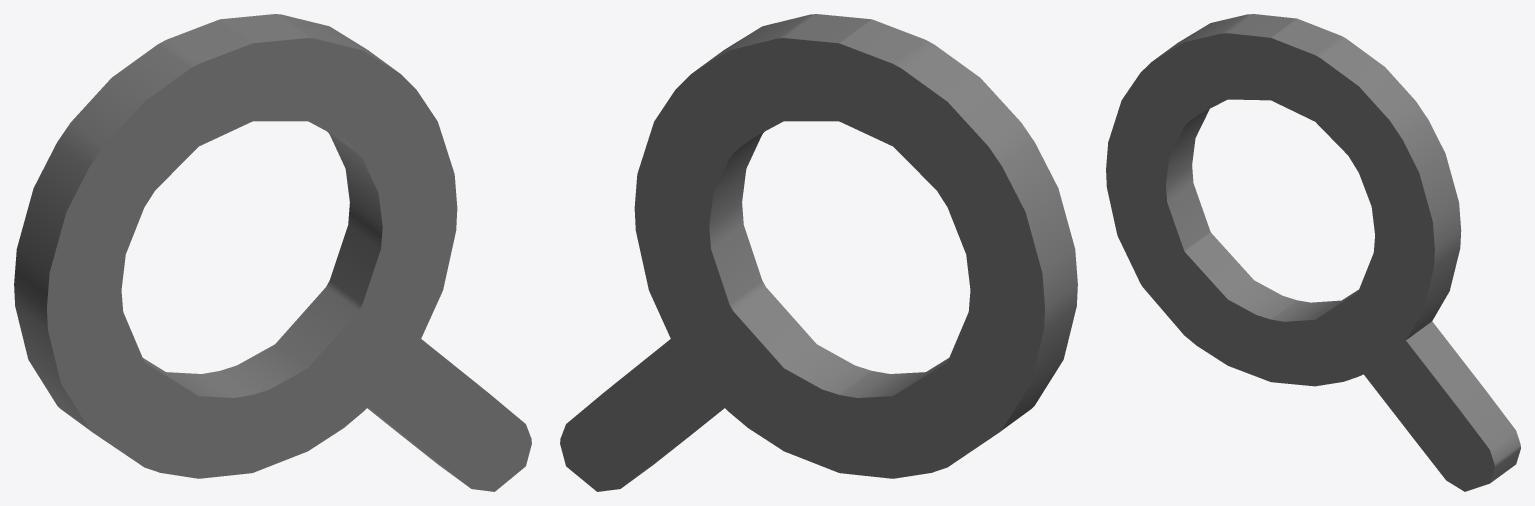
The model's file is fa-search.obj.
The picture shows the model from 3 angles, left to right: view 1: azimuth 30°, elevation 25°; view 2: azimuth 150°, elevation 25°; view 3: azimuth 330°, elevation 25°; orthographic projection. The views are drawn at different scales.
Size of the model in its own units: 0.9827 by 0.9827 by 0.1152.
Materials: 1 (1 with a texture image).
